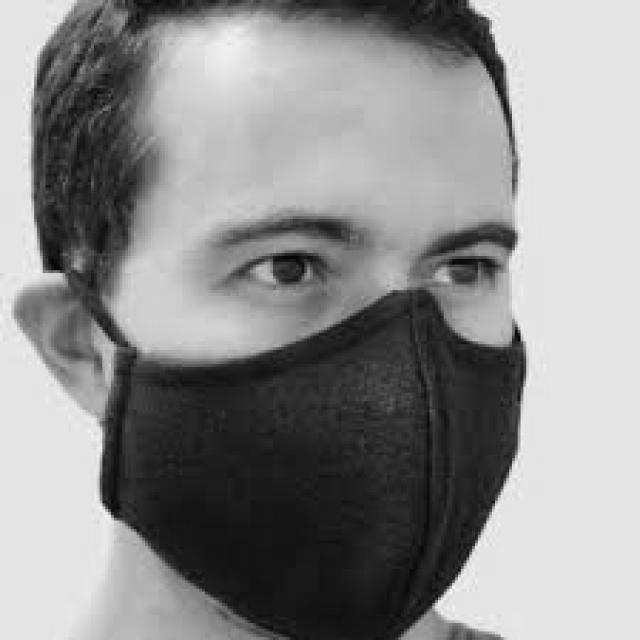fake: (66, 274, 559, 640)
real: (132, 31, 518, 640)
